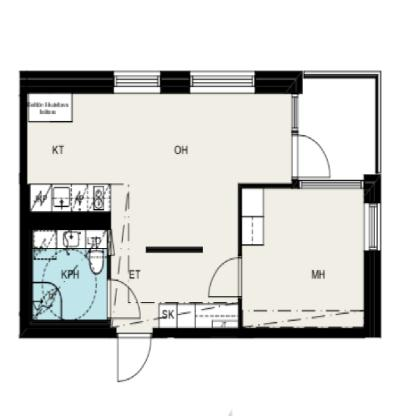door: (288, 133, 334, 179), (117, 332, 154, 386), (204, 257, 244, 300), (102, 279, 141, 322)
window: (27, 90, 291, 330), (240, 186, 366, 332), (30, 225, 107, 321), (190, 70, 254, 93), (112, 71, 160, 93), (366, 202, 384, 252), (299, 179, 364, 190), (291, 96, 298, 133)
